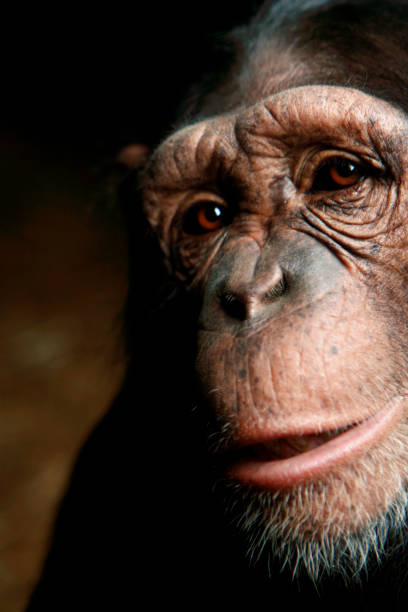chimpanzee: (89, 11, 408, 577)
